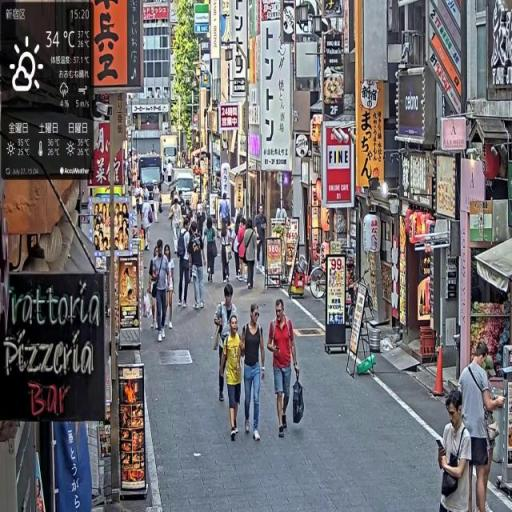person: (459, 341, 507, 512), (269, 295, 303, 442), (436, 386, 472, 512), (239, 304, 268, 443), (222, 310, 246, 446), (214, 284, 240, 409), (189, 221, 207, 312), (177, 217, 192, 308), (243, 219, 260, 294), (205, 216, 219, 285), (255, 204, 268, 275), (220, 222, 233, 287)
